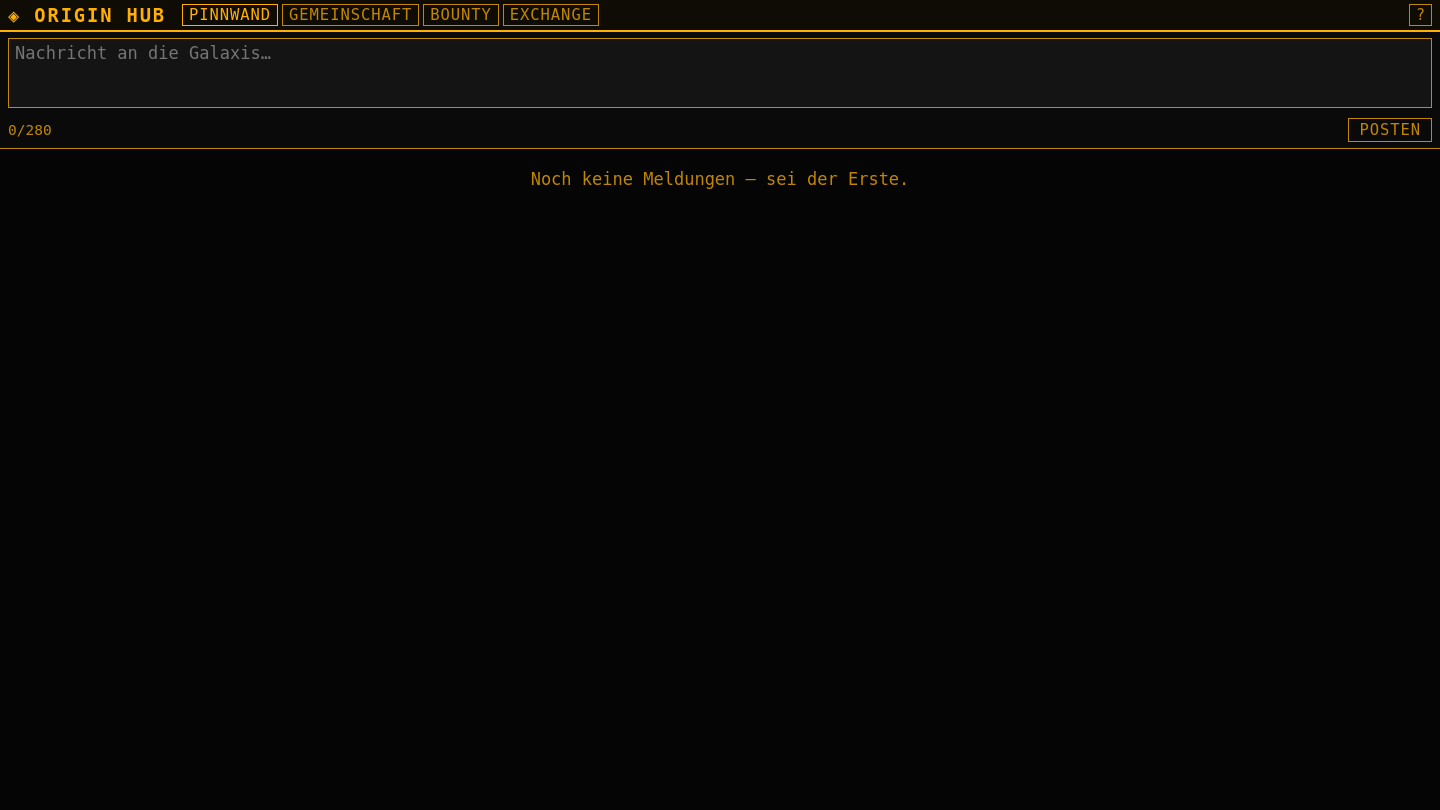
OriginHub — STARTHILFE-Aufträge › renders all starter bounties with rewards
The width and height of the screenshot is (1440, 810).
Click the text "BOUNTY".
click(461, 15)  # box [423,4,499,26]
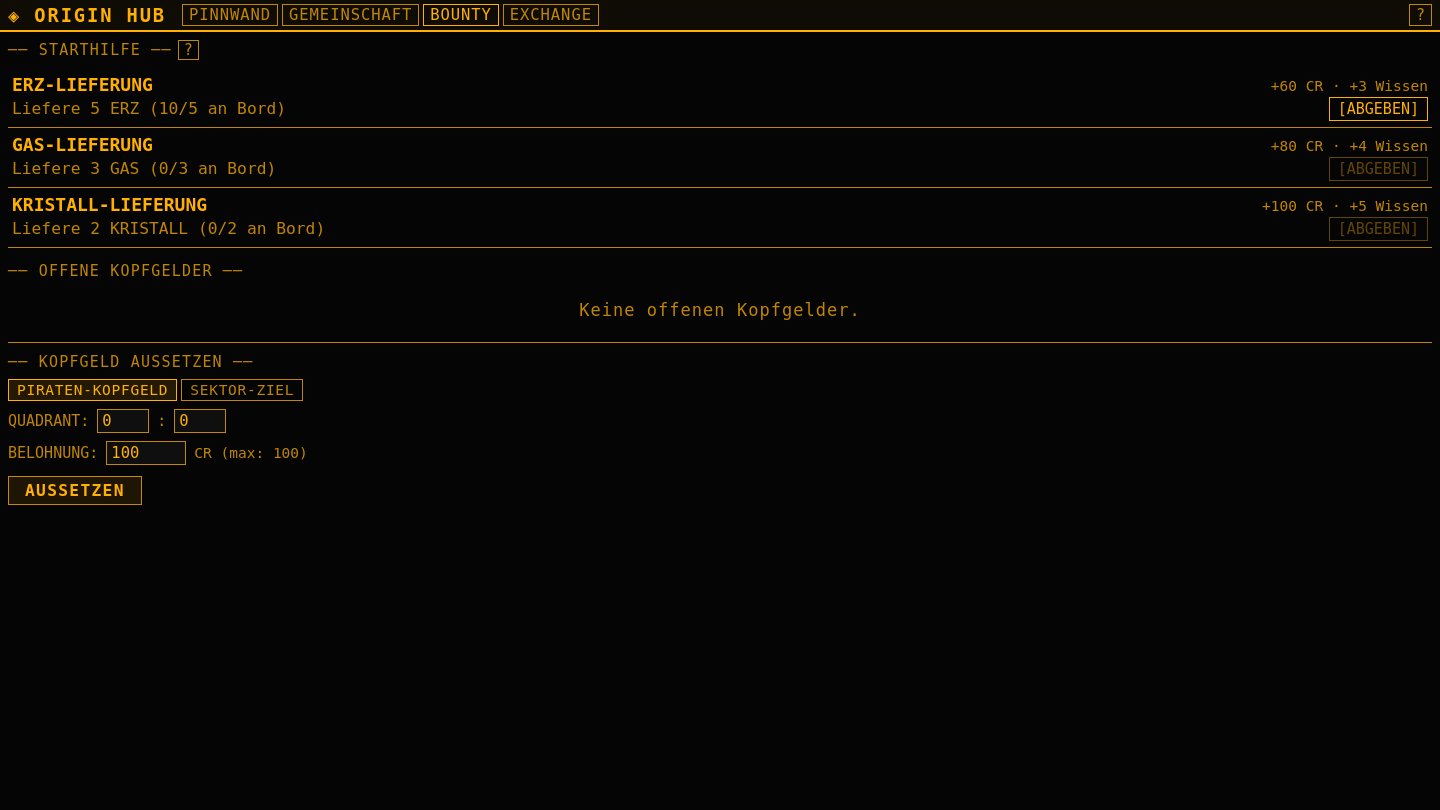
Expected: the element with test id "starter-bounty-item-starter_ore" is shown, [8,68,1432,128]
Expected: the element with test id "starter-bounty-item-starter_gas" is shown, [8,128,1432,188]
Expected: the element with test id "starter-bounty-item-starter_crystal" is shown, [8,188,1432,248]
